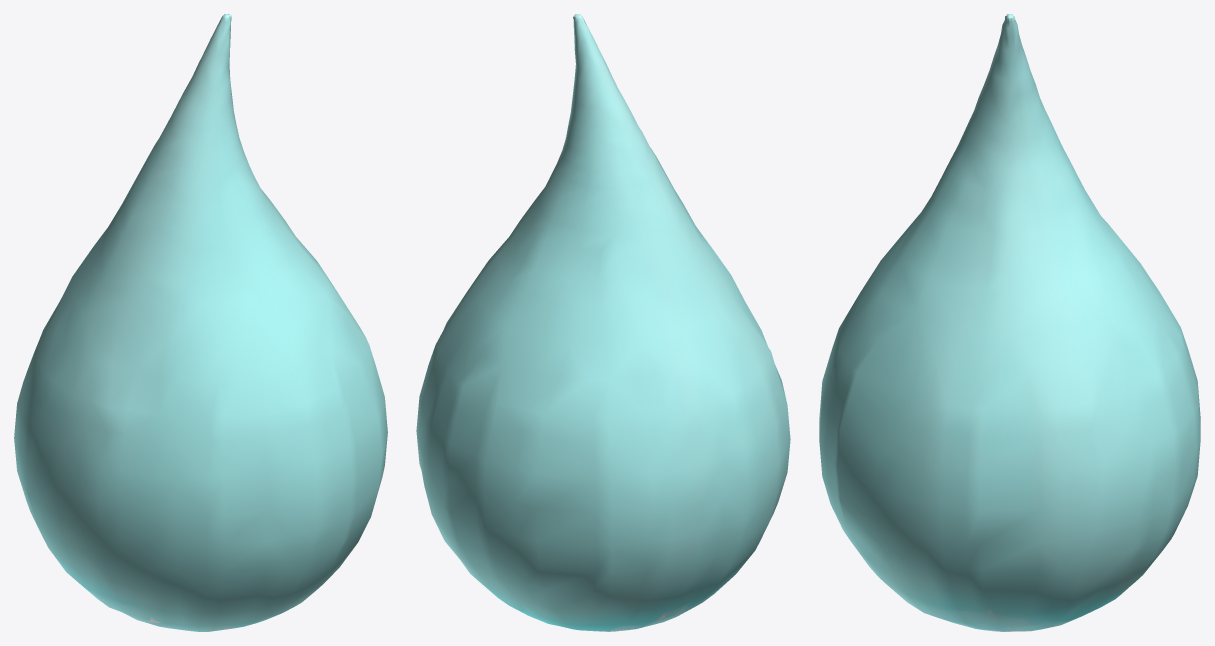
File: prop-droplet.glb
The picture shows the model from 3 angles, left to right: view 1: azimuth 30°, elevation 25°; view 2: azimuth 150°, elevation 25°; view 3: azimuth 270°, elevation 25°; orthographic projection. The views are drawn at different scales.
Parts seen in each view (by area): view 1: prop-droplet_Mesh; view 2: prop-droplet_Mesh; view 3: prop-droplet_Mesh.
Part boxes in pixels (<box>): prop-droplet_Mesh: <box>14,14,387,631</box>; prop-droplet_Mesh: <box>416,14,790,631</box>; prop-droplet_Mesh: <box>819,14,1200,631</box>.
Size of the model in its own units: 1.74 by 3.1 by 1.74.
Materials: 1 (1 with a texture image).
